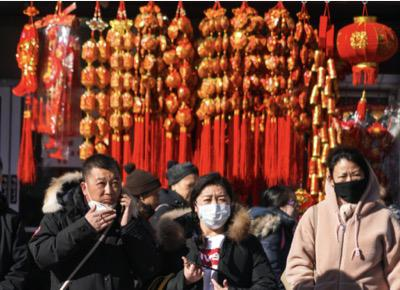mask_weared_incorrect: (87, 172, 121, 213)
with_mask: (333, 165, 368, 202), (196, 193, 229, 229)
without_mask: (142, 189, 160, 210), (282, 199, 298, 220)
